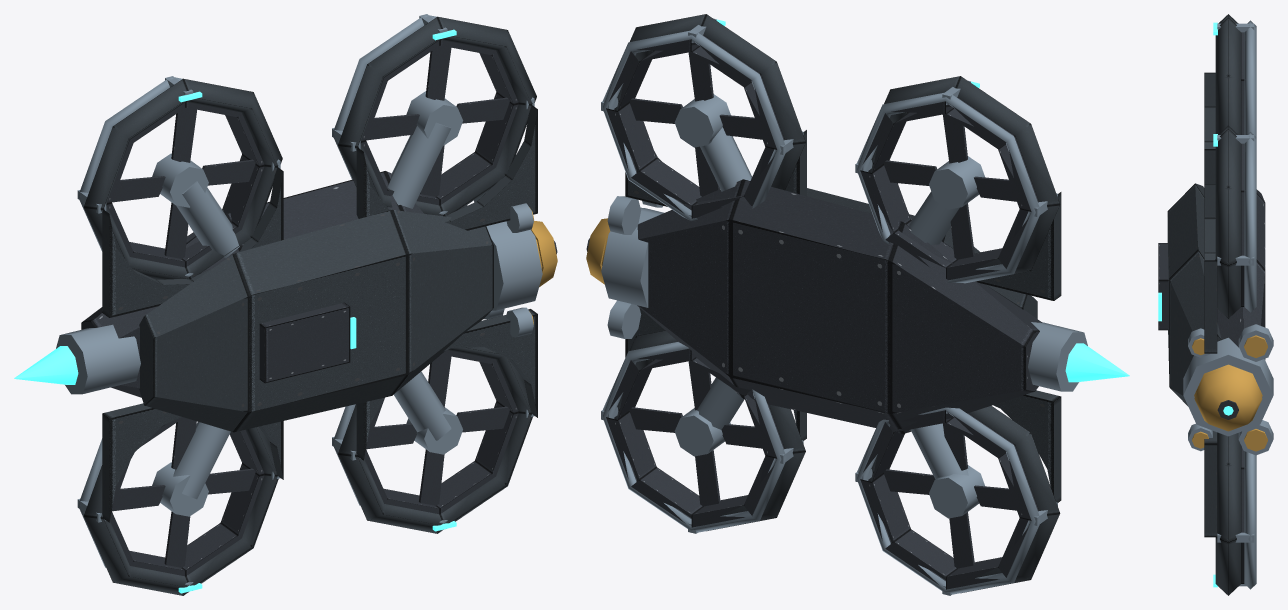
The model's file is drone-low.glb.
The picture shows the model from 3 angles, left to right: view 1: azimuth 30°, elevation 25°; view 2: azimuth 150°, elevation 25°; view 3: azimuth 270°, elevation 25°; orthographic projection. The views are drawn at different scales.
Parts seen in each view (by area): view 1: drone-root.001 / Brushed pale alloy.001, drone-root.001 / Ceramic graphite.001, drone-root.001 / Titanium edges.001, Survey rotor.005 / Ceramic graphite.001, Survey rotor.006 / Ceramic graphite.001, Survey rotor.004 / Ceramic graphite.001, Survey rotor.007 / Ceramic graphite.001, Survey rotor.005 / Titanium edges.001, Survey rotor.007 / Titanium edges.001, Rear jet plume.001 / Cyan instrumentation.001, Survey rotor.004 / Titanium edges.001, Survey rotor.006 / Titanium edges.001 (+2 smaller); view 2: drone-root.001 / Ceramic graphite.001, drone-root.001 / Titanium edges.001, drone-root.001 / Brushed pale alloy.001, Survey rotor.005 / Ceramic graphite.001, Survey rotor.006 / Ceramic graphite.001, Survey rotor.004 / Ceramic graphite.001, Survey rotor.007 / Ceramic graphite.001, Survey rotor.005 / Titanium edges.001, Survey rotor.007 / Titanium edges.001, Survey rotor.004 / Titanium edges.001, Survey rotor.006 / Titanium edges.001, Rear jet plume.001 / Cyan instrumentation.001 (+1 smaller); view 3: drone-root.001 / Brushed pale alloy.001, drone-root.001 / Titanium edges.001, drone-root.001 / Ceramic graphite.001, drone-root.001 / Ore gold / optics.001, drone-root.001 / Cyan instrumentation.001.
Part boxes in pixels (bbox=[...]): drone-root.001 / Brushed pale alloy.001: bbox=[84, 16, 537, 595]; drone-root.001 / Ceramic graphite.001: bbox=[81, 40, 557, 576]; drone-root.001 / Titanium edges.001: bbox=[56, 14, 542, 585]; Survey rotor.005 / Ceramic graphite.001: bbox=[112, 107, 255, 258]; Survey rotor.006 / Ceramic graphite.001: bbox=[366, 354, 509, 505]; Survey rotor.004 / Ceramic graphite.001: bbox=[112, 417, 255, 567]; Survey rotor.007 / Ceramic graphite.001: bbox=[366, 45, 509, 196]; Survey rotor.005 / Titanium edges.001: bbox=[152, 153, 208, 207]; Survey rotor.007 / Titanium edges.001: bbox=[406, 91, 463, 145]; Rear jet plume.001 / Cyan instrumentation.001: bbox=[14, 346, 78, 384]; Survey rotor.004 / Titanium edges.001: bbox=[152, 462, 208, 516]; Survey rotor.006 / Titanium edges.001: bbox=[406, 407, 462, 454]; drone-root.001 / Ceramic graphite.001: bbox=[586, 35, 1042, 589]; drone-root.001 / Titanium edges.001: bbox=[601, 18, 1087, 595]; drone-root.001 / Brushed pale alloy.001: bbox=[614, 14, 1061, 593]; Survey rotor.005 / Ceramic graphite.001: bbox=[884, 104, 1016, 259]; Survey rotor.006 / Ceramic graphite.001: bbox=[629, 361, 762, 506]; Survey rotor.004 / Ceramic graphite.001: bbox=[884, 423, 1016, 568]; Survey rotor.007 / Ceramic graphite.001: bbox=[629, 42, 762, 196]; Survey rotor.005 / Titanium edges.001: bbox=[929, 156, 984, 209]; Survey rotor.007 / Titanium edges.001: bbox=[674, 94, 730, 147]; Survey rotor.004 / Titanium edges.001: bbox=[929, 465, 984, 518]; Survey rotor.006 / Titanium edges.001: bbox=[674, 408, 730, 456]; Rear jet plume.001 / Cyan instrumentation.001: bbox=[1065, 343, 1129, 382]; drone-root.001 / Brushed pale alloy.001: bbox=[1167, 14, 1241, 595]; drone-root.001 / Titanium edges.001: bbox=[1183, 20, 1273, 589]; drone-root.001 / Ceramic graphite.001: bbox=[1158, 32, 1265, 583]; drone-root.001 / Ore gold / optics.001: bbox=[1192, 335, 1267, 451]; drone-root.001 / Cyan instrumentation.001: bbox=[1158, 22, 1233, 587].
Bounding box in the file's own units: 1.66 × 1.52 × 0.3417.
Materials: 5 (2 with a texture image).
